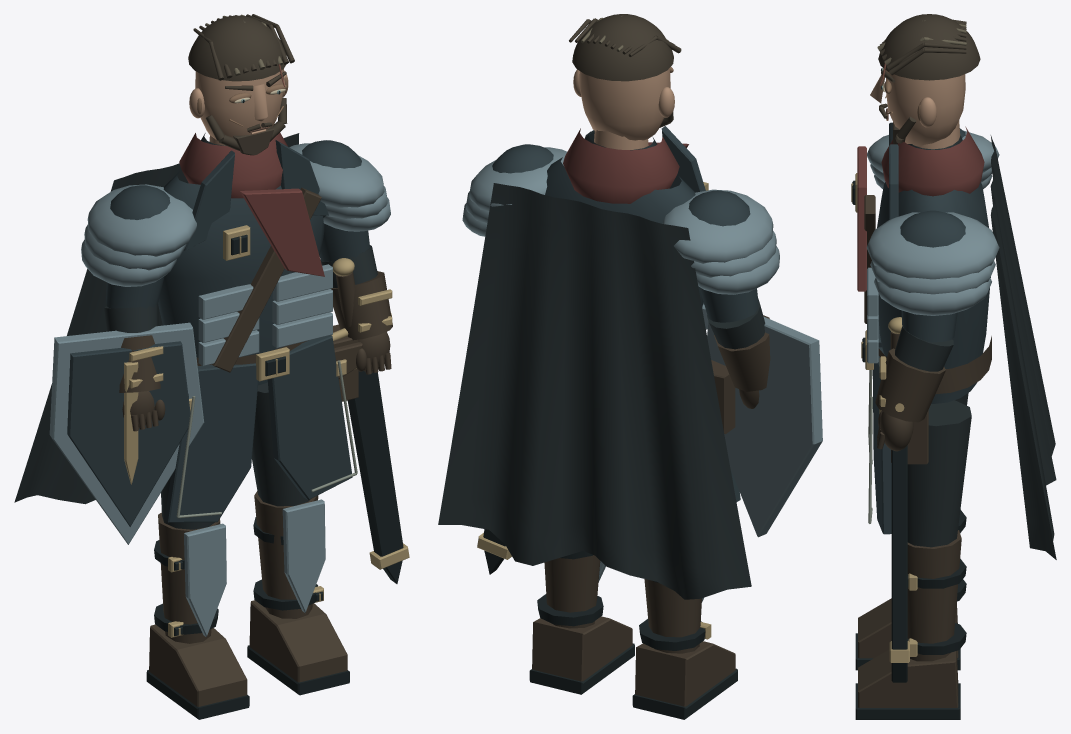
Rendered from watchman.glb.
3 renders of one model, left to right at view 1: azimuth 30°, elevation 25°; view 2: azimuth 150°, elevation 25°; view 3: azimuth 270°, elevation 25°, orthographic. The views are drawn at different scales.
Visible parts, largest first — view 1: body, watch-shield, legR, legL, roadwarden-pauldron (×2), head, roadwarden-scarf, roadwarden-sword, armR, armL, hand (×2), leather-pouch; view 2: body, watch-shield, head, legR, roadwarden-pauldron (×2), legL, armL, roadwarden-scarf, armR, leather-pouch, roadwarden-sword; view 3: body, legR, roadwarden-pauldron (×2), head, armR, roadwarden-scarf, roadwarden-sword, legL, hand, leather-pouch.
Boxes of the visible parts, x1=… form: body: x1=14, y1=133, x2=357, y2=522; watch-shield: x1=49, y1=322, x2=204, y2=544; legR: x1=247, y1=382, x2=349, y2=695; legL: x1=146, y1=477, x2=249, y2=719; roadwarden-pauldron (×2): x1=81, y1=143, x2=390, y2=286; head: x1=188, y1=14, x2=294, y2=155; roadwarden-scarf: x1=179, y1=132, x2=324, y2=276; roadwarden-sword: x1=331, y1=258, x2=409, y2=583; armR: x1=302, y1=140, x2=392, y2=340; armL: x1=104, y1=185, x2=170, y2=392; hand (×2): x1=122, y1=331, x2=391, y2=431; leather-pouch: x1=333, y1=324, x2=362, y2=401; body: x1=438, y1=126, x2=751, y2=599; watch-shield: x1=707, y1=316, x2=822, y2=537; head: x1=569, y1=14, x2=681, y2=140; legR: x1=529, y1=551, x2=634, y2=694; roadwarden-pauldron (×2): x1=462, y1=147, x2=779, y2=294; legL: x1=632, y1=579, x2=737, y2=719; armL: x1=688, y1=190, x2=770, y2=391; roadwarden-scarf: x1=563, y1=128, x2=688, y2=203; armR: x1=492, y1=144, x2=553, y2=173; leather-pouch: x1=711, y1=360, x2=735, y2=434; roadwarden-sword: x1=477, y1=529, x2=511, y2=574; body: x1=851, y1=120, x2=1056, y2=559; legR: x1=855, y1=400, x2=971, y2=719; roadwarden-pauldron (×2): x1=866, y1=130, x2=999, y2=315; head: x1=870, y1=14, x2=980, y2=146; armR: x1=875, y1=210, x2=965, y2=422; roadwarden-scarf: x1=857, y1=126, x2=984, y2=291; roadwarden-sword: x1=888, y1=317, x2=909, y2=682; legL: x1=855, y1=393, x2=968, y2=670; hand: x1=877, y1=411, x2=913, y2=451; leather-pouch: x1=879, y1=409, x2=928, y2=464.
Size of the model in its own units: 1.15 by 2.09 by 0.5871.
